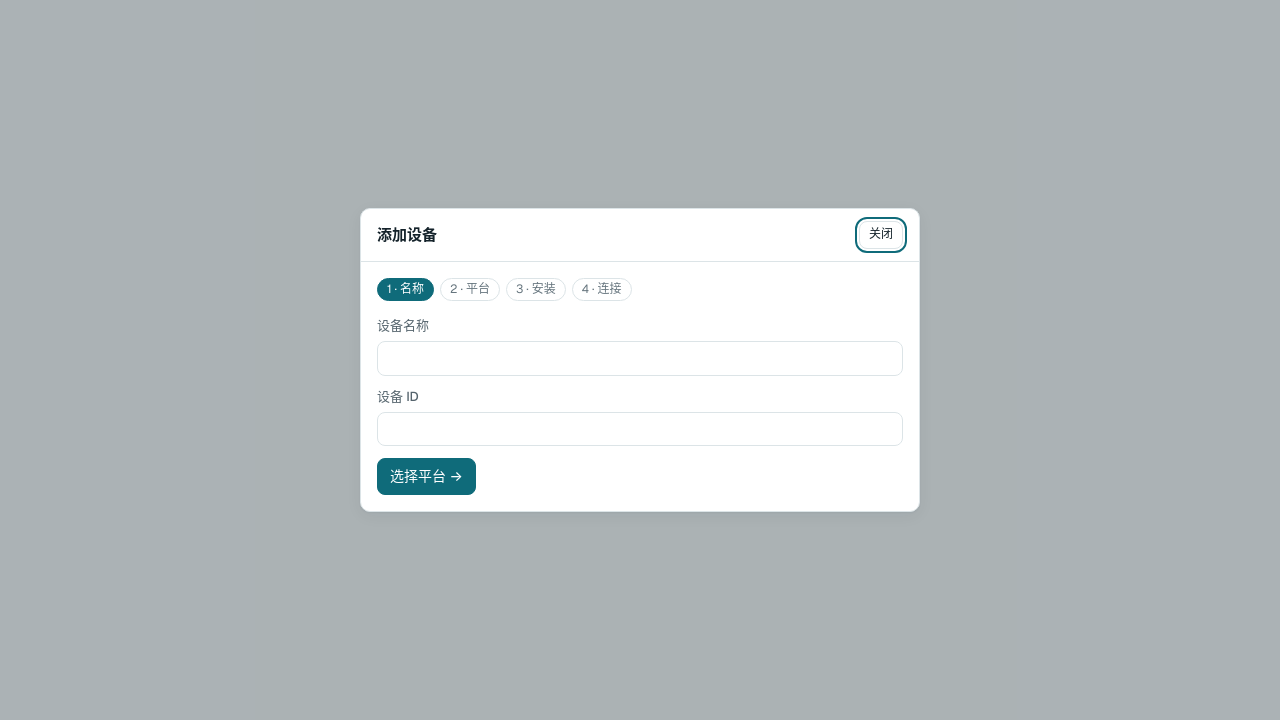
Test: walks all four enrollment steps in Chinese without translating device data
The width and height of the screenshot is (1280, 720).
Type "nas-01" into the field labelled "设备名称" at (640, 358), box [377, 341, 903, 376]
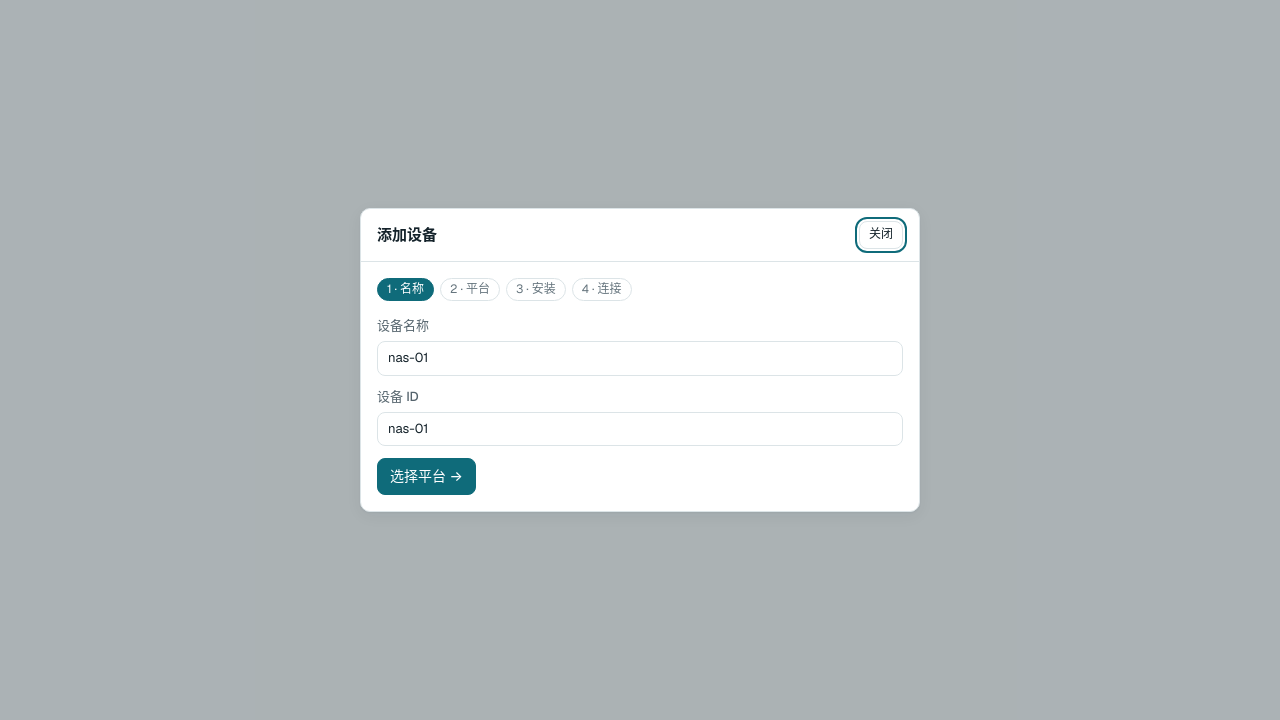
Expected: the field labelled "设备 ID" holds "nas-01", [377, 412, 903, 446]
Click the button "选择平台 →" at (426, 477), box [377, 458, 476, 495]
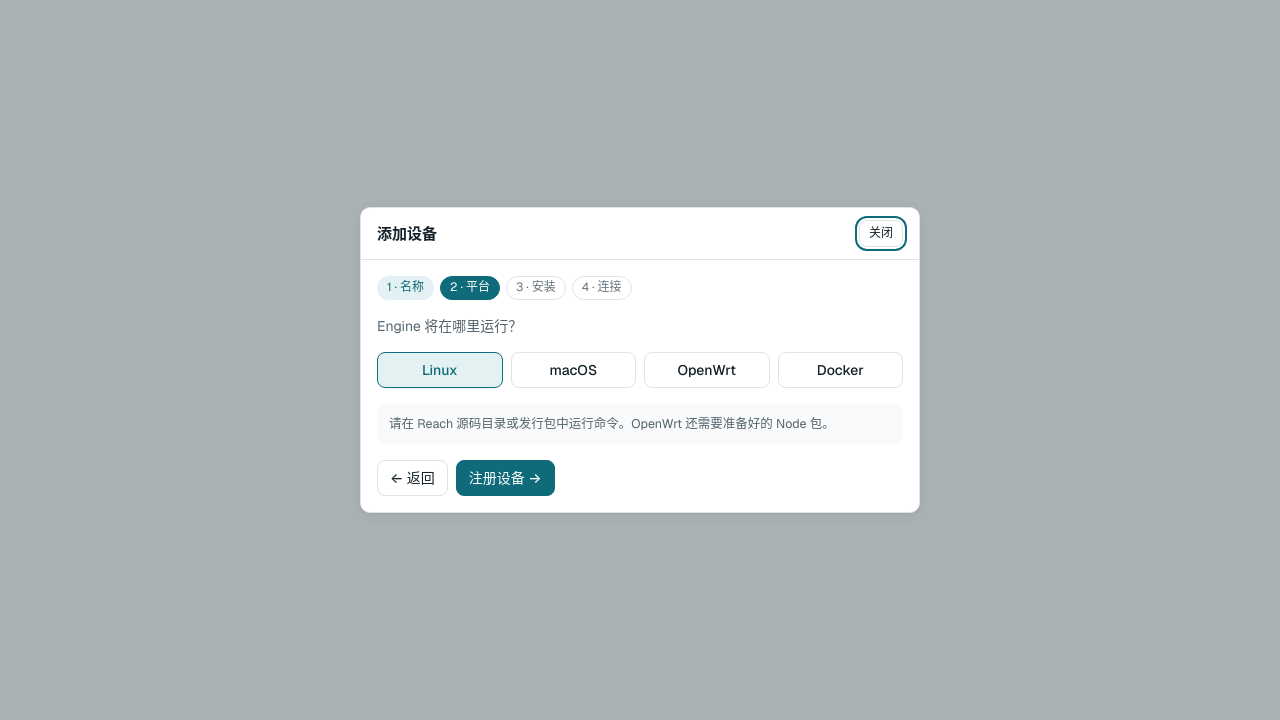
Expected: the text "Engine 将在哪里运行？" is shown, [377, 317, 522, 335]
Click the button "注册设备 →" at (505, 478), box [456, 460, 555, 496]
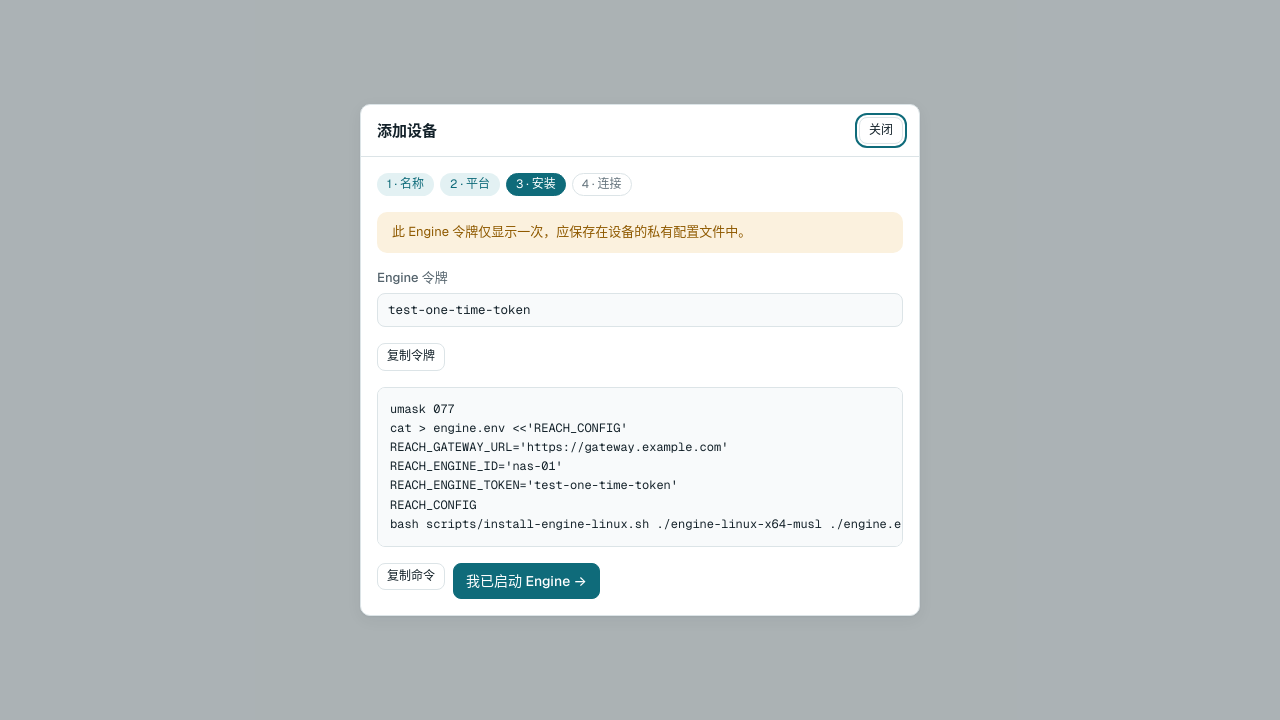
Expected: the field named "一次性 Engine 令牌" holds "test-one-time-token", [377, 293, 903, 327]
Click the button "我已启动 Engine →" at (526, 581), box [453, 563, 600, 599]
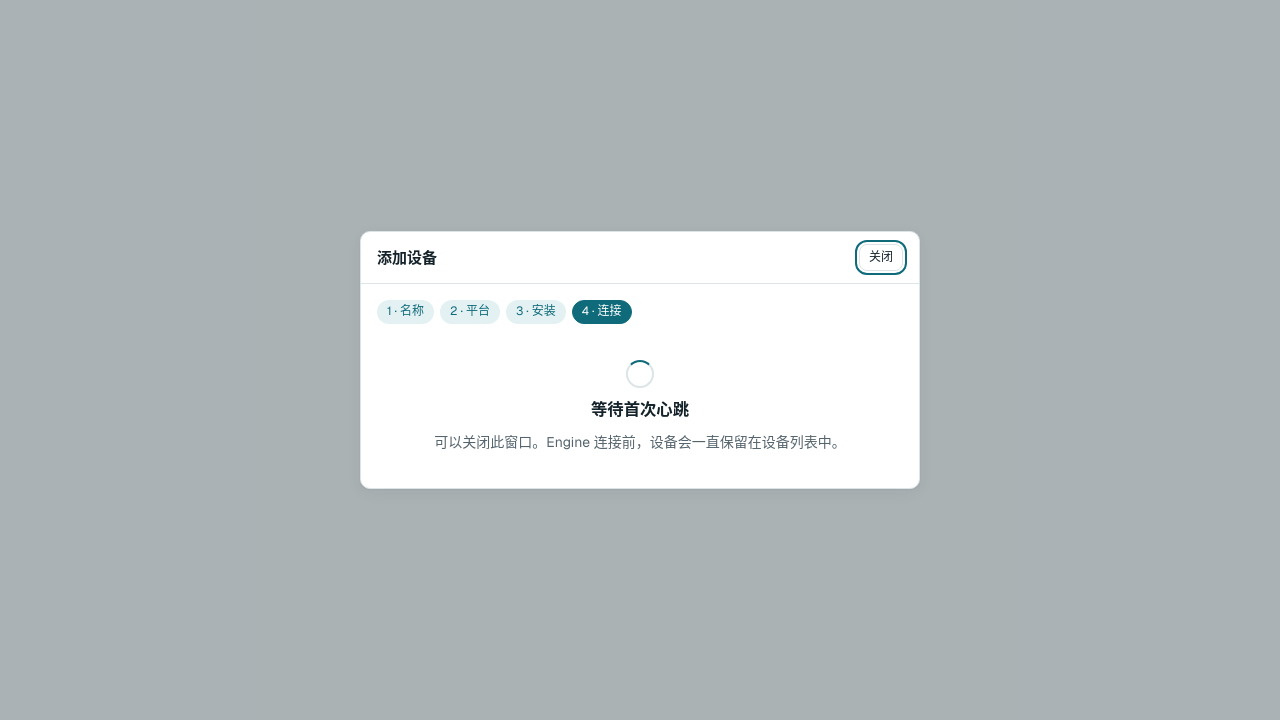
Expected: the heading "等待首次心跳" is shown, [591, 398, 689, 422]
